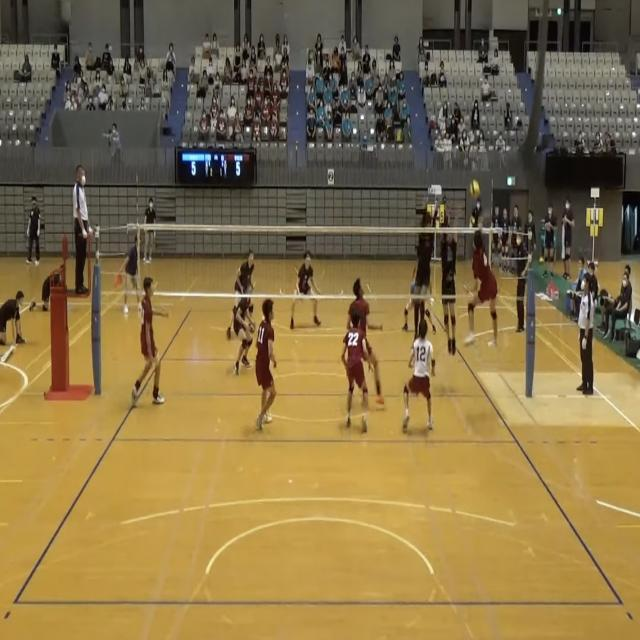spike: (461, 176, 501, 352)
